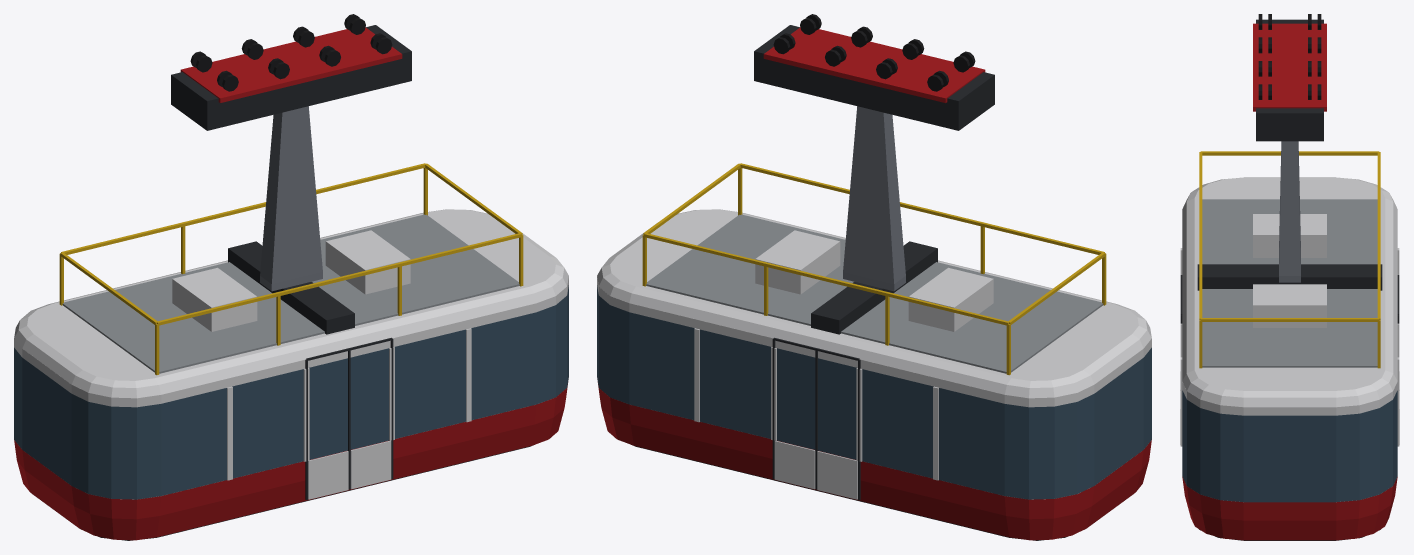
File: tram_cabin.obj
The picture shows the model from 3 angles, left to right: view 1: azimuth 30°, elevation 25°; view 2: azimuth 150°, elevation 25°; view 3: azimuth 270°, elevation 25°; orthographic projection. The views are drawn at different scales.
Bounding box in the file's own units: 8.6 × 6.86 × 3.56.
